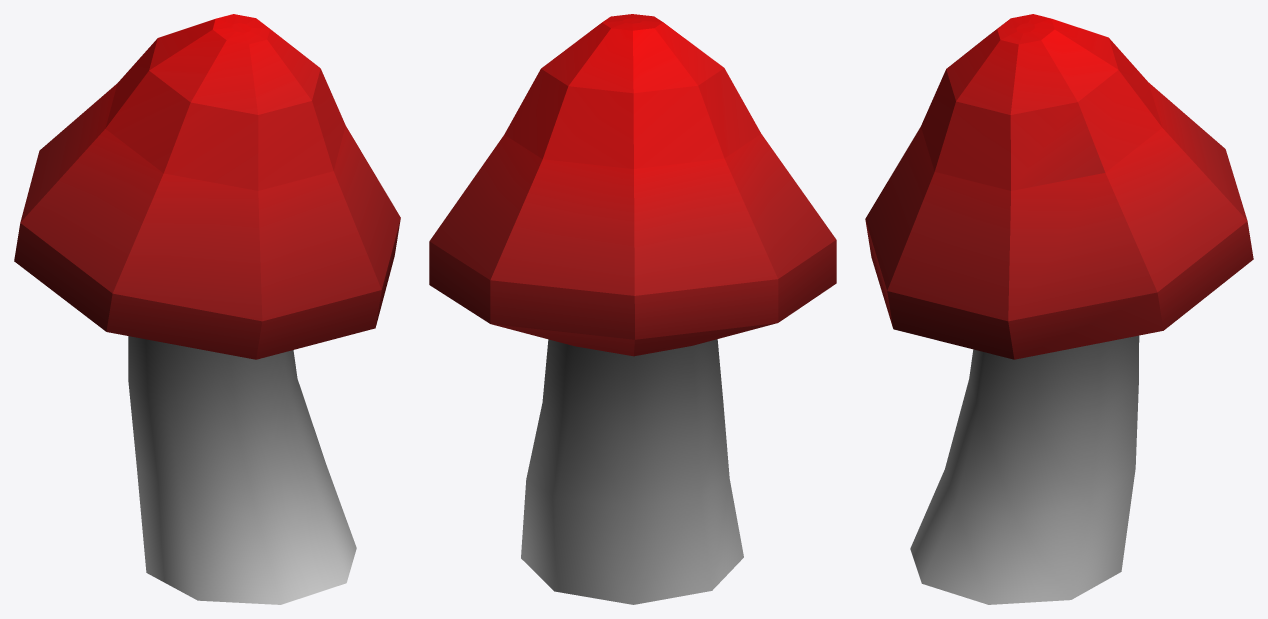
The model's file is MushroomExtraSmallRed.FBX.
3 views of the same model, side by side, from view 1: azimuth 30°, elevation 25°; view 2: azimuth 150°, elevation 25°; view 3: azimuth 270°, elevation 25° (orthographic). The views are drawn at different scales.
Parts seen in each view (by area): view 1: Cylinder007; view 2: Cylinder007; view 3: Cylinder007.
Part boxes in pixels (x1,y1,x2,y2): Cylinder007: (14, 14, 400, 604); Cylinder007: (429, 14, 836, 604); Cylinder007: (865, 14, 1253, 604).
Size of the model in its own units: 12.54 by 19.04 by 12.58.
